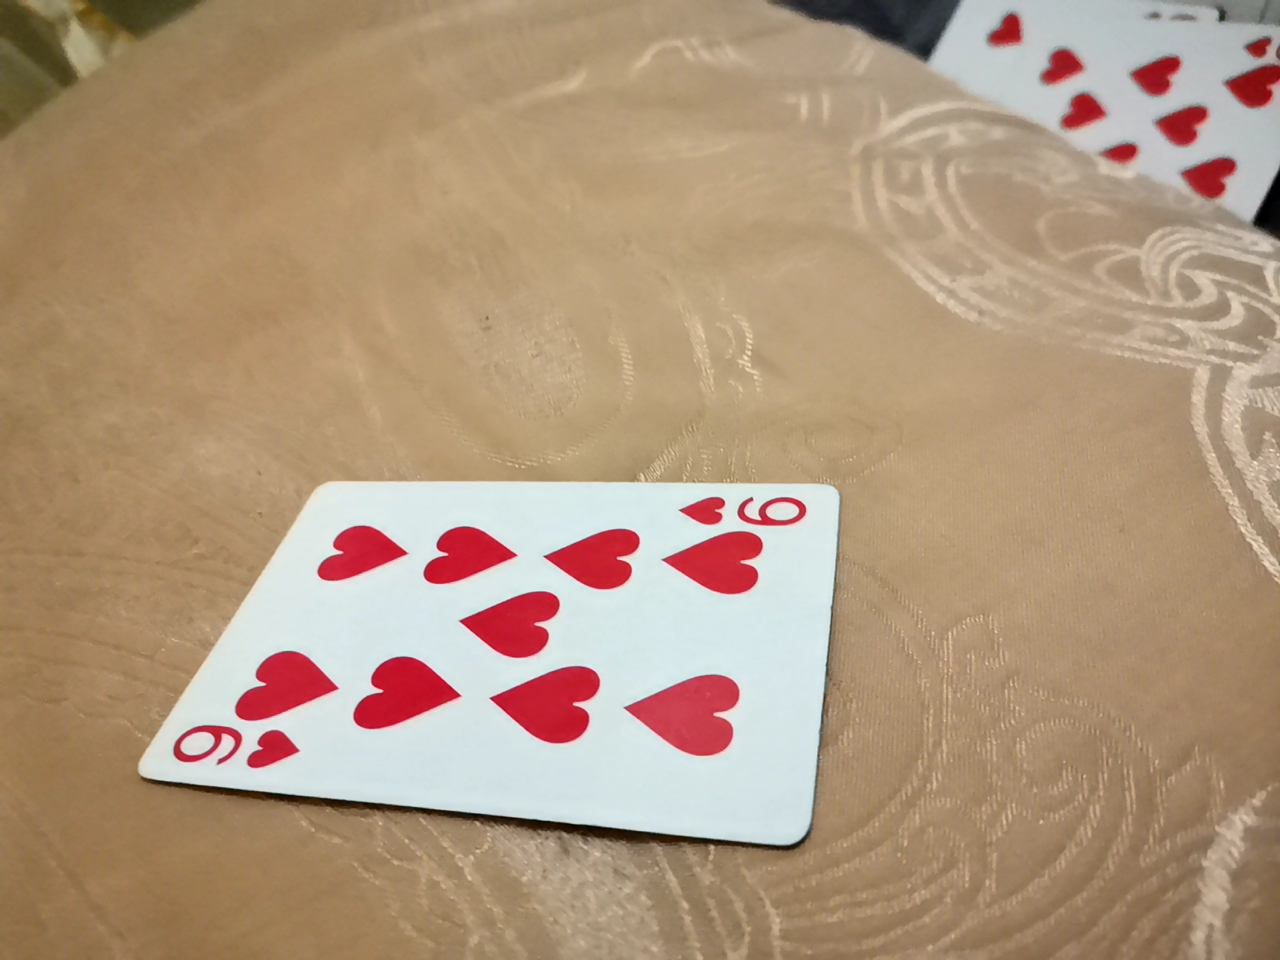hx 9: (107, 482, 820, 855)
